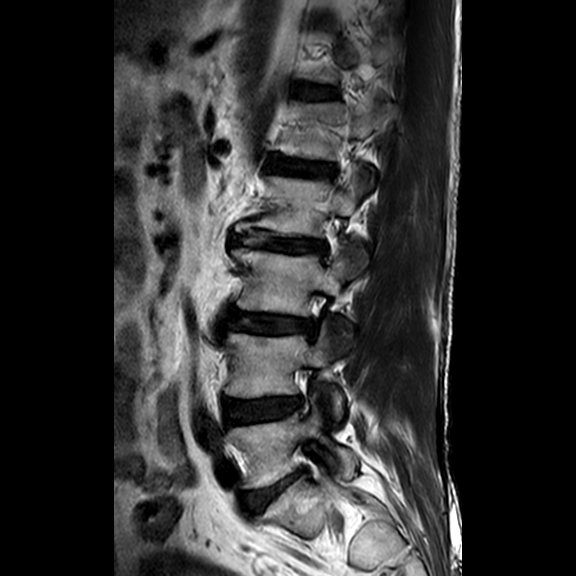LFS1: (292, 281, 338, 349), (281, 354, 322, 427)
